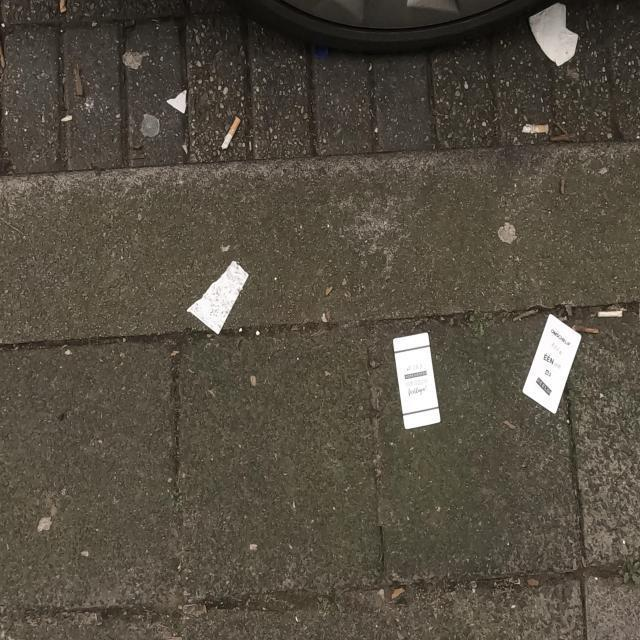Paper: (522, 312, 582, 414), (392, 332, 442, 430), (187, 259, 250, 336), (528, 2, 580, 68)
